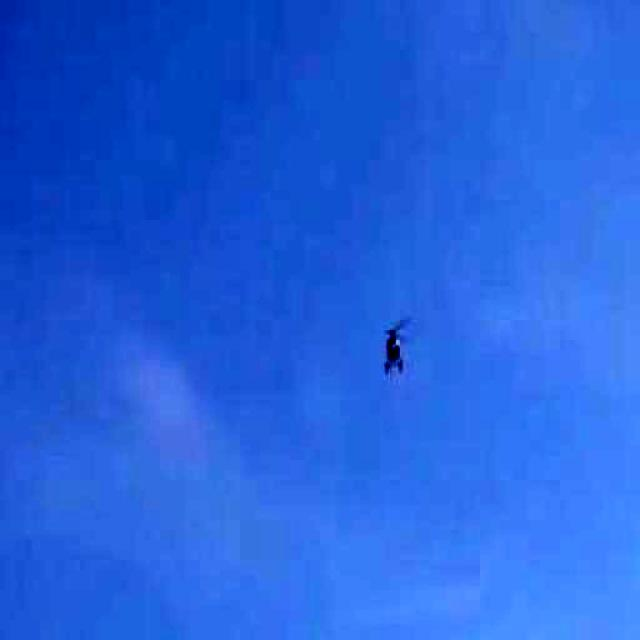drone: (335, 251, 478, 435)
